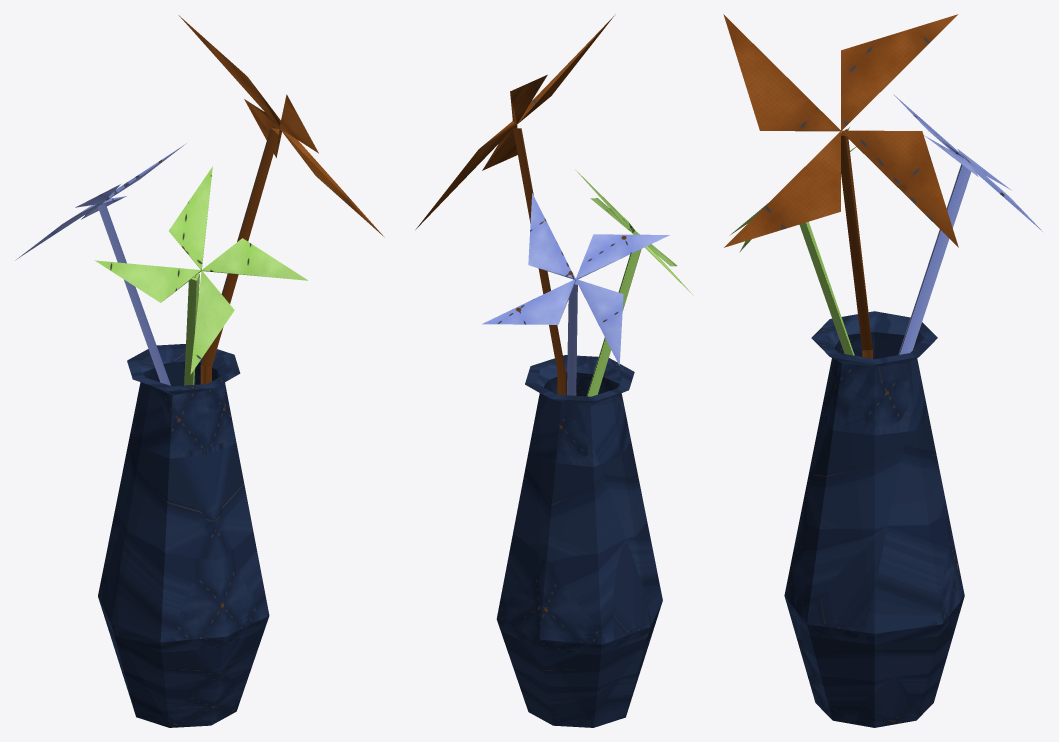
Rendered from vase.fbx.
3 renders of one model, left to right at view 1: azimuth 30°, elevation 25°; view 2: azimuth 150°, elevation 25°; view 3: azimuth 270°, elevation 25°, orthographic. The views are drawn at different scales.
Visible parts, largest first — view 1: flower:pCylinder1, flower:petal2, flower:petal, flower:pCube1, flower:pCube2, flower:petal1, flower:pCube3; view 2: flower:pCylinder1, flower:petal1, flower:petal, flower:pCube1, flower:pCube3, flower:pCube2, flower:petal2; view 3: flower:pCylinder1, flower:petal, flower:pCube1, flower:pCube2, flower:pCube3, flower:petal1.
Part boxes in pixels (x1=…): flower:pCylinder1: x1=98, y1=344, x2=269, y2=727; flower:petal2: x1=95, y1=166, x2=307, y2=374; flower:petal: x1=178, y1=15, x2=384, y2=237; flower:pCube1: x1=200, y1=128, x2=279, y2=384; flower:pCube2: x1=97, y1=203, x2=170, y2=385; flower:petal1: x1=15, y1=143, x2=186, y2=260; flower:pCube3: x1=184, y1=274, x2=199, y2=385; flower:pCylinder1: x1=496, y1=355, x2=662, y2=727; flower:petal1: x1=482, y1=193, x2=669, y2=365; flower:petal: x1=415, y1=14, x2=615, y2=229; flower:pCube1: x1=513, y1=128, x2=566, y2=395; flower:pCube3: x1=587, y1=249, x2=641, y2=396; flower:pCube2: x1=567, y1=278, x2=577, y2=395; flower:petal2: x1=575, y1=169, x2=693, y2=295; flower:pCylinder1: x1=784, y1=311, x2=964, y2=727; flower:petal: x1=723, y1=14, x2=958, y2=247; flower:pCube1: x1=841, y1=129, x2=872, y2=358; flower:pCube2: x1=898, y1=164, x2=971, y2=354; flower:pCube3: x1=799, y1=221, x2=854, y2=355; flower:petal1: x1=893, y1=94, x2=1042, y2=231.
Bounding box in the file's own units: 0.8634 × 2.28 × 0.9391.
